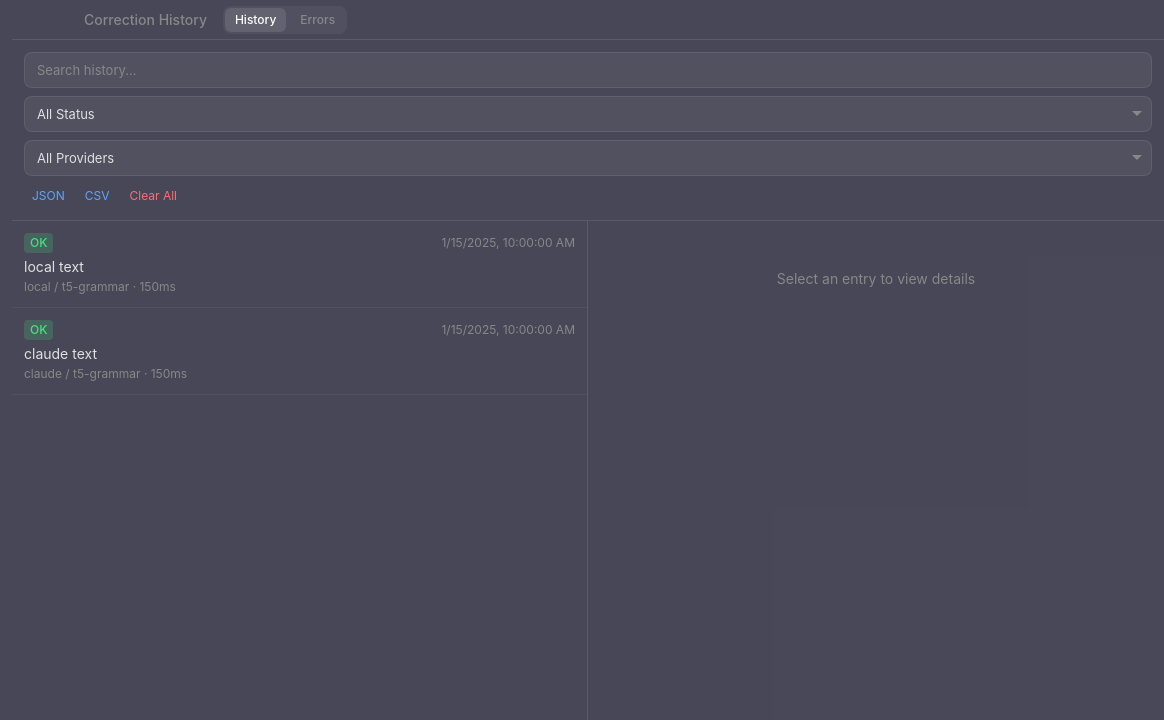
History › provider dropdown filters by provider name
The image size is (1164, 720).
Check: the text "claude text" is shown, box [24,345,97,362]
Select "claude" in the 2nd dropdown showing "All Providers" at (588, 158), box [24,140,1152,176]
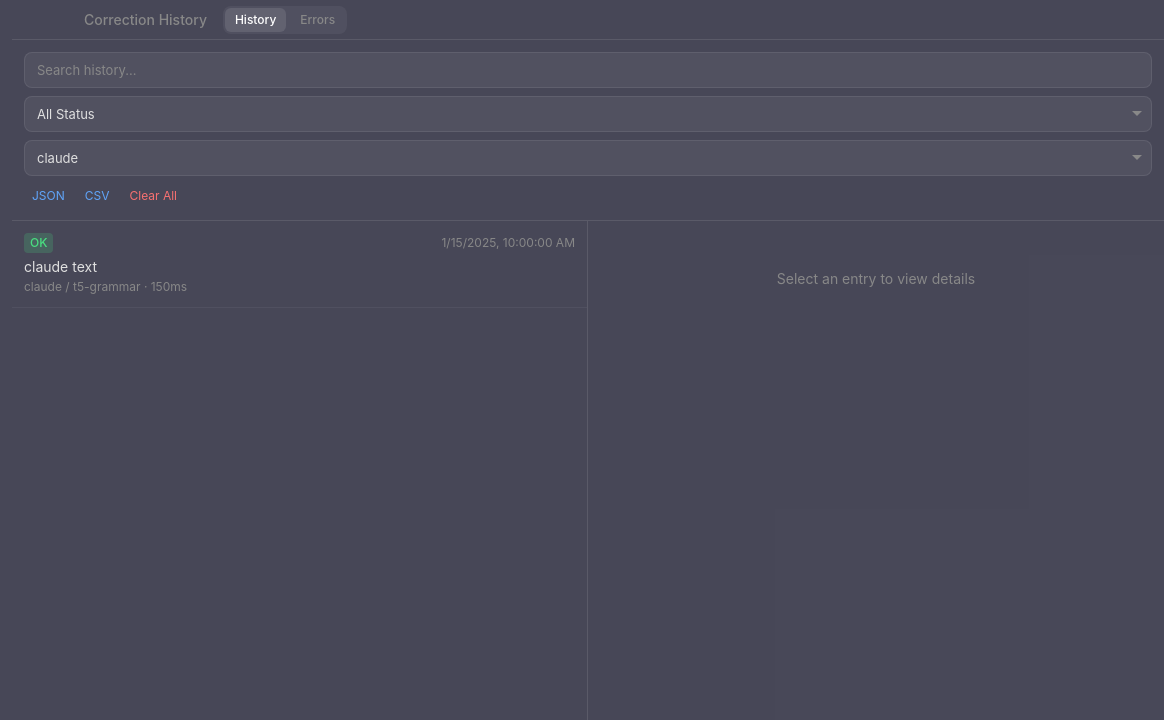
Check: the text "claude text" is shown, box [24,258,97,275]
Check: the button "local text" is gone
